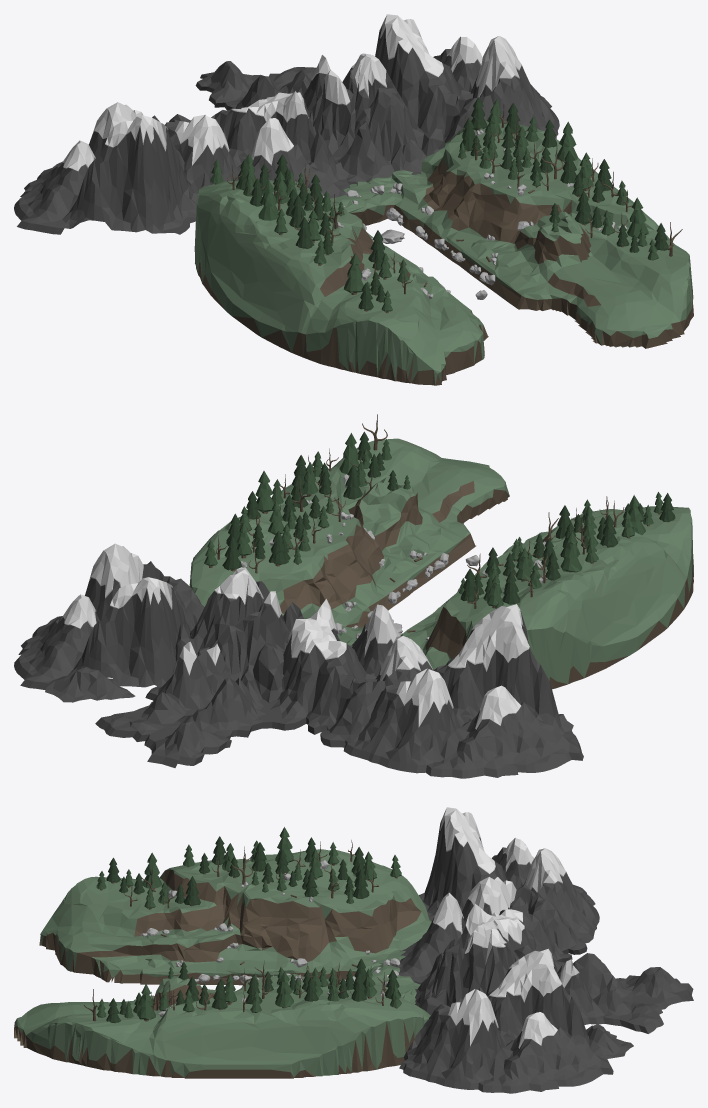
File: Landscape_FBX.fbx
The picture shows the model from 3 angles, top to bottom: view 1: azimuth 30°, elevation 25°; view 2: azimuth 150°, elevation 25°; view 3: azimuth 270°, elevation 25°; orthographic projection. The views are drawn at different scales.
Parts seen in each view (by area): view 1: Landcape; view 2: Landcape; view 3: Landcape.
Part boxes in pixels (x1,y1,x2,y2): Landcape: [14, 14, 693, 385]; Landcape: [14, 414, 693, 778]; Landcape: [14, 807, 693, 1093].
Bounding box in the file's own units: 6529 × 1447 × 8094.
